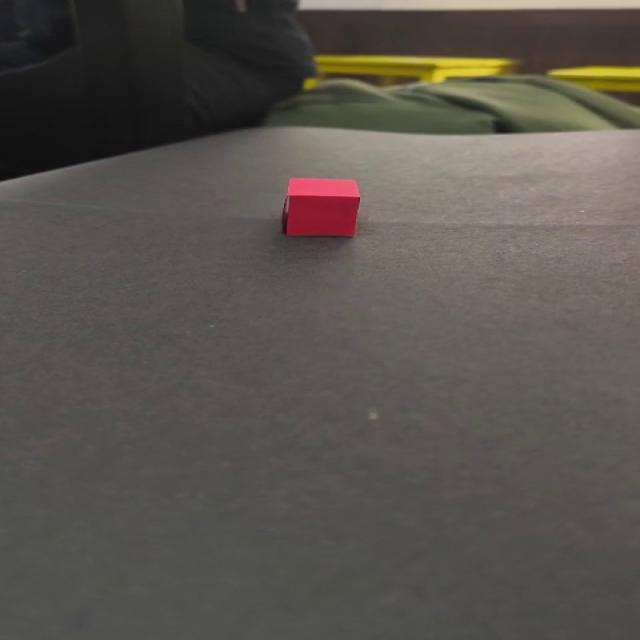red block: (280, 177, 360, 237)
